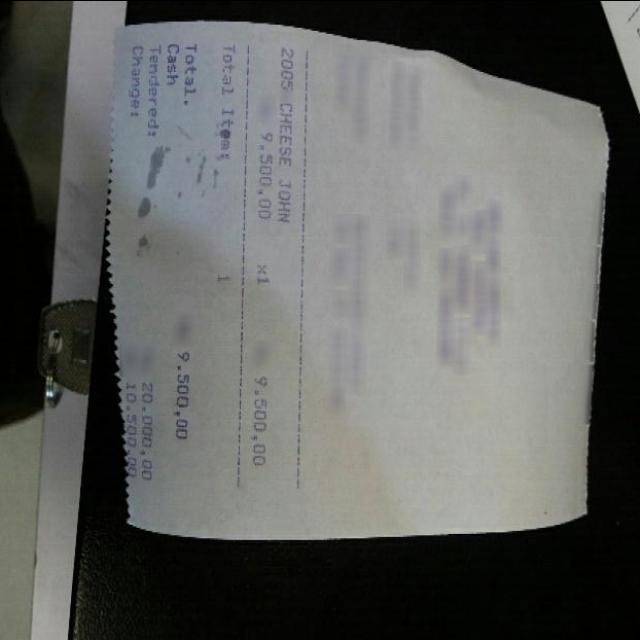kertas: (99, 17, 613, 551)
